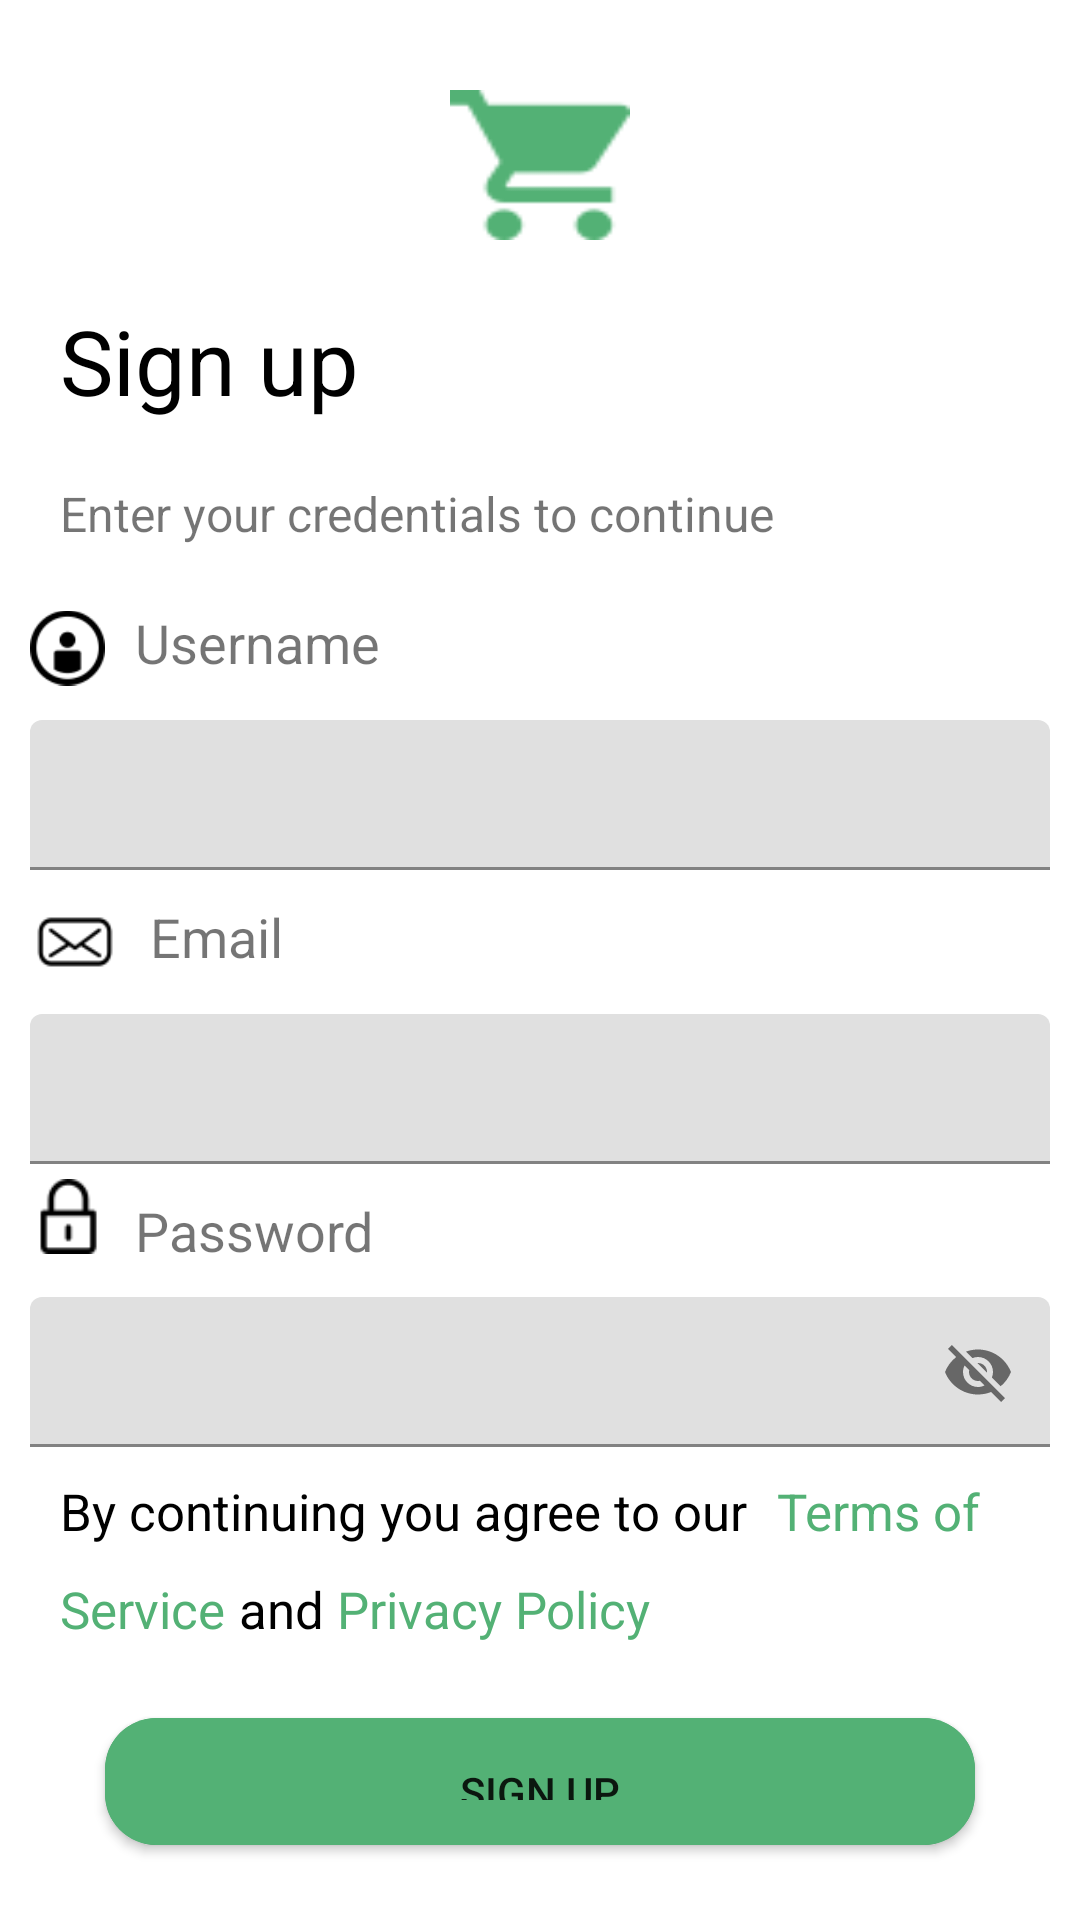

Point at icon controls on the screen. Image size 1080px×1920px, points as point (x, y).
mailicon: point (75, 942)
passicon: point (68, 1216)
